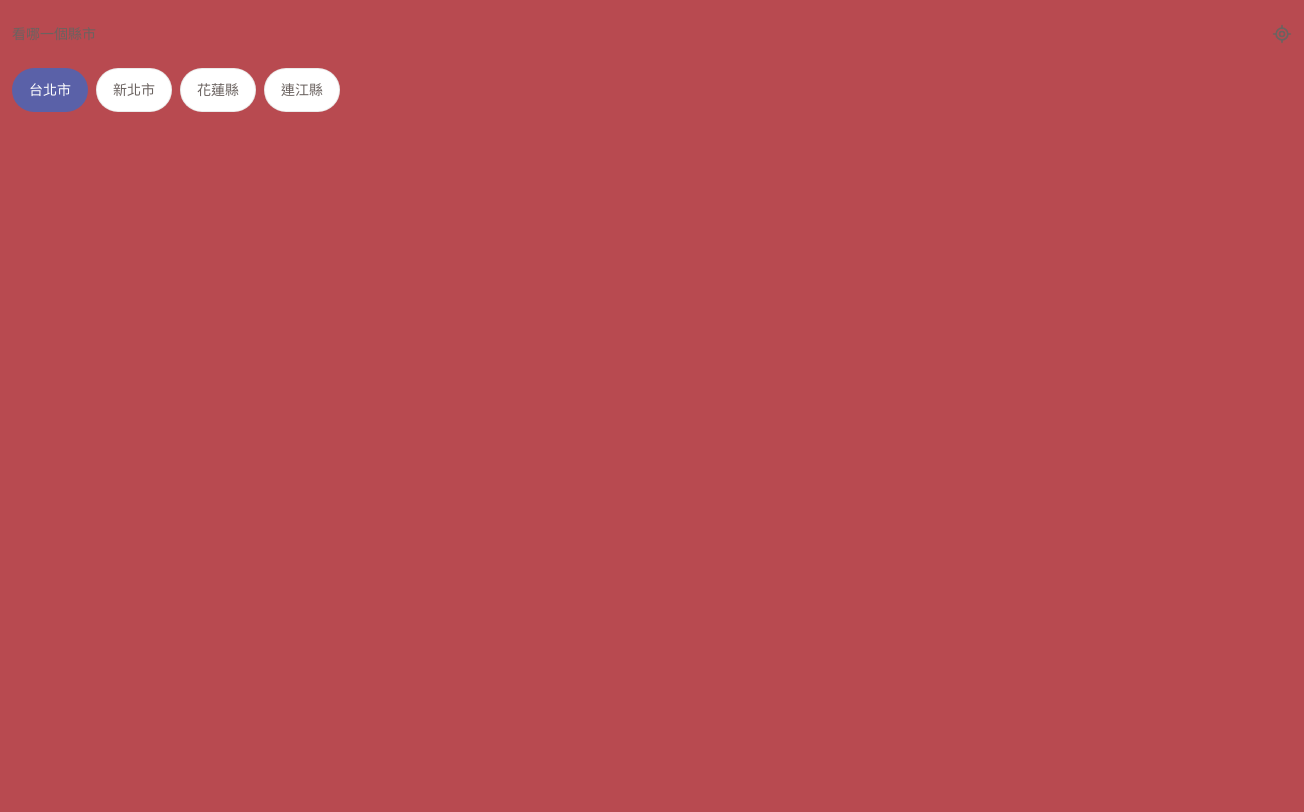
Scenario: CountyPicker 的定位 › 定位失敗給得出下一步，不是什麼都沒發生
Click the button named "用目前位置選縣市". click: (1276, 34)
box: [1260, 12, 1292, 56]
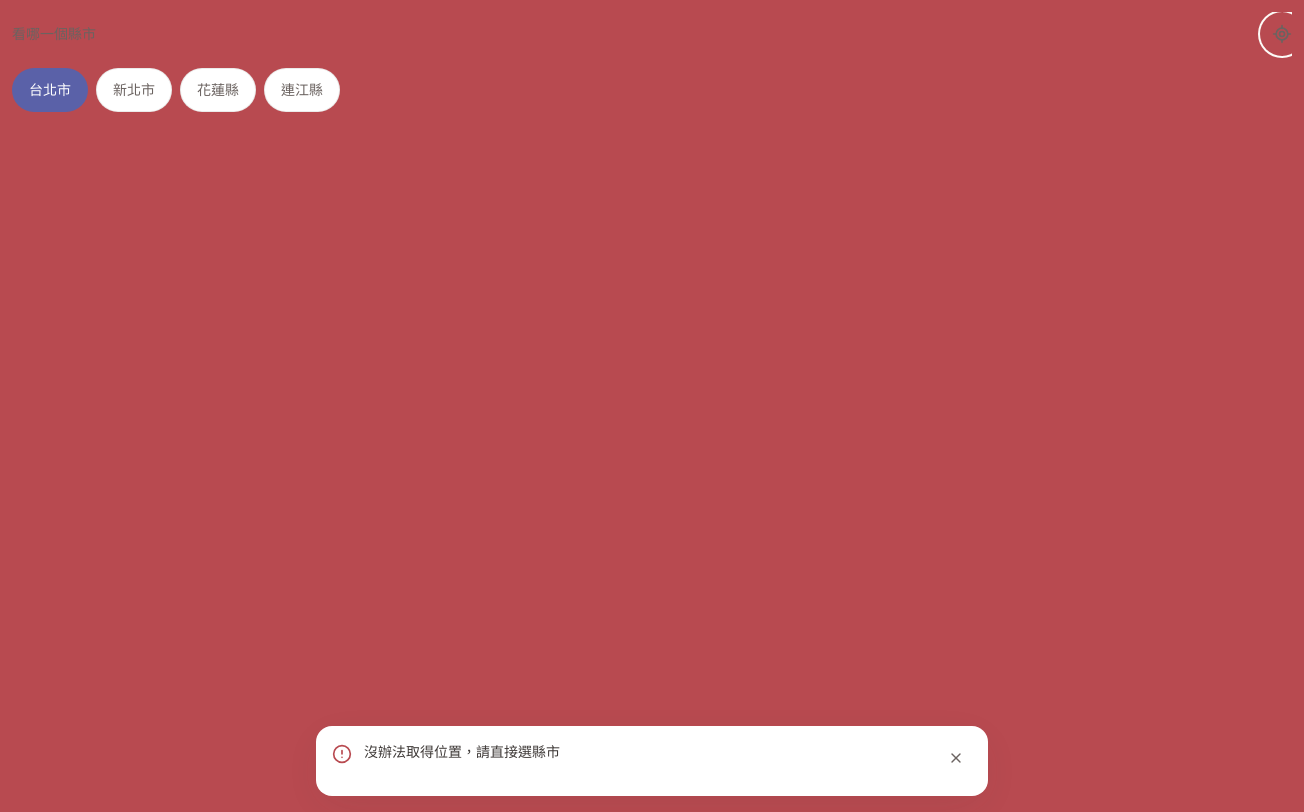
expect the text "沒辦法取得位置，請直接選縣市" is shown: met, box [364, 743, 560, 760]
